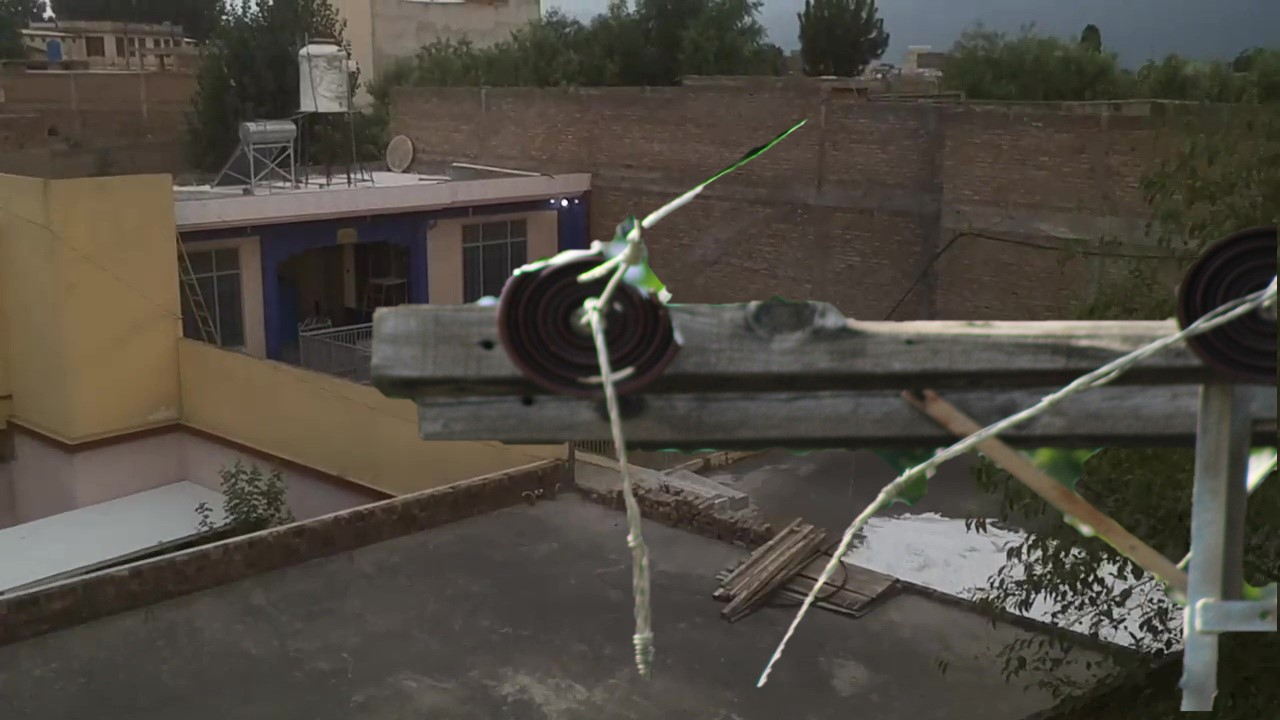defect_disc: (495, 239, 690, 404)
